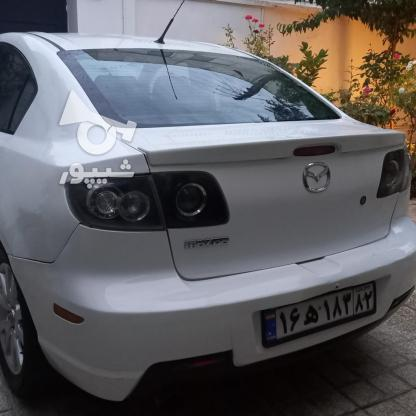car: (255, 279, 378, 347)
